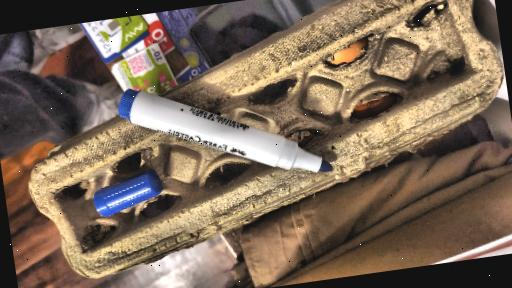marcador azul: (118, 89, 332, 172)
